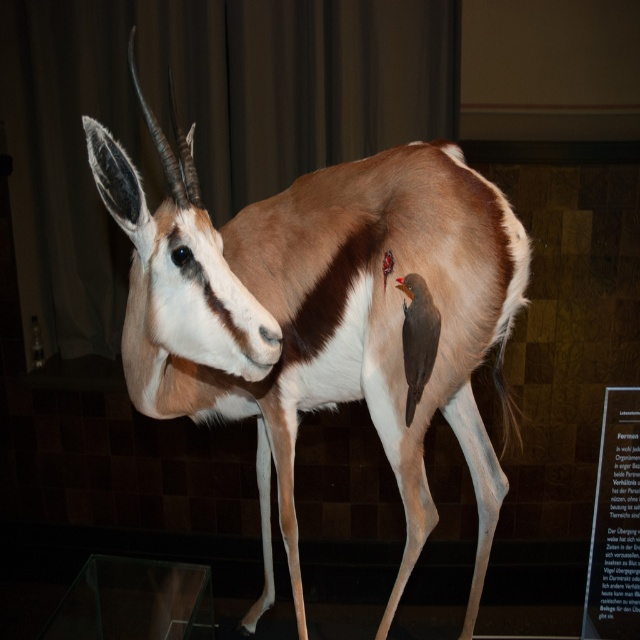Deer: (80, 22, 534, 639)
